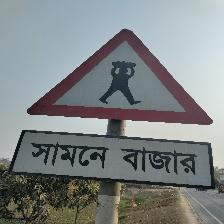Market-in-front: (17, 29, 216, 189)
